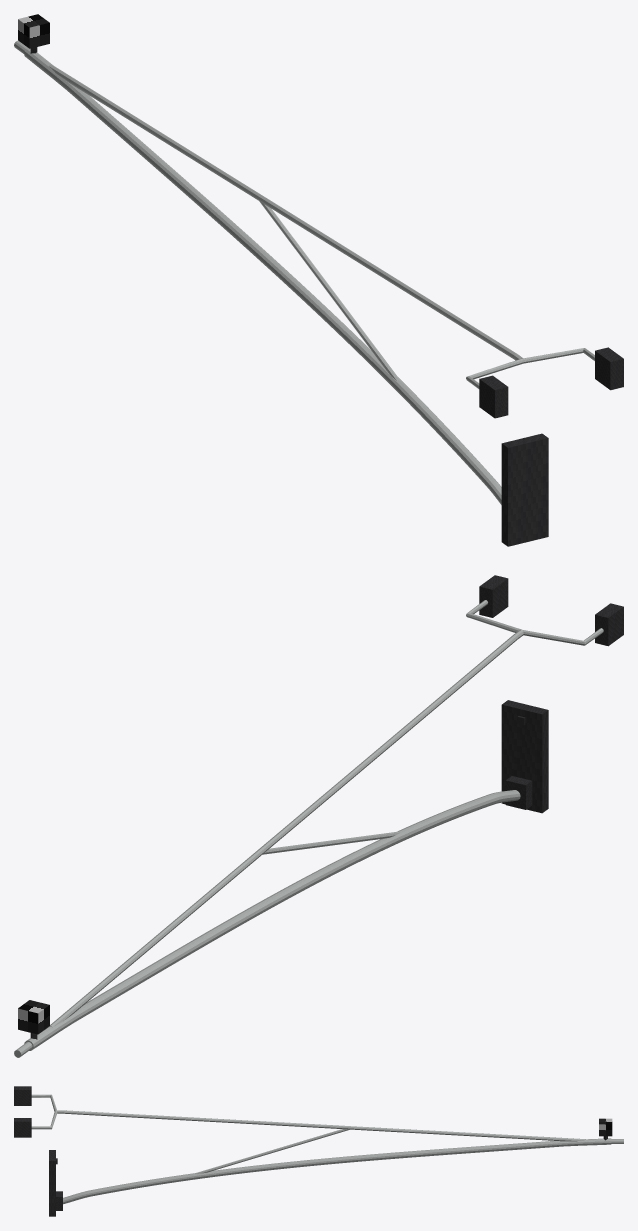
Rendered from arm_8_straight.obj.
3 views of the same model, one above another, from view 1: azimuth 30°, elevation 25°; view 2: azimuth 150°, elevation 25°; view 3: azimuth 270°, elevation 25° (orthographic). The views are drawn at different scales.
Parts seen in each view (by area): view 1: pole_light_mount_8_straight; view 2: pole_light_mount_8_straight; view 3: pole_light_mount_8_straight.
Boxes of the visible parts, x1,y1,x2,y2 form: pole_light_mount_8_straight: (14, 14, 623, 546); pole_light_mount_8_straight: (14, 575, 623, 1057); pole_light_mount_8_straight: (14, 1086, 623, 1216).
Size of the model in its own units: 1.19 by 1.68 by 8.69.
